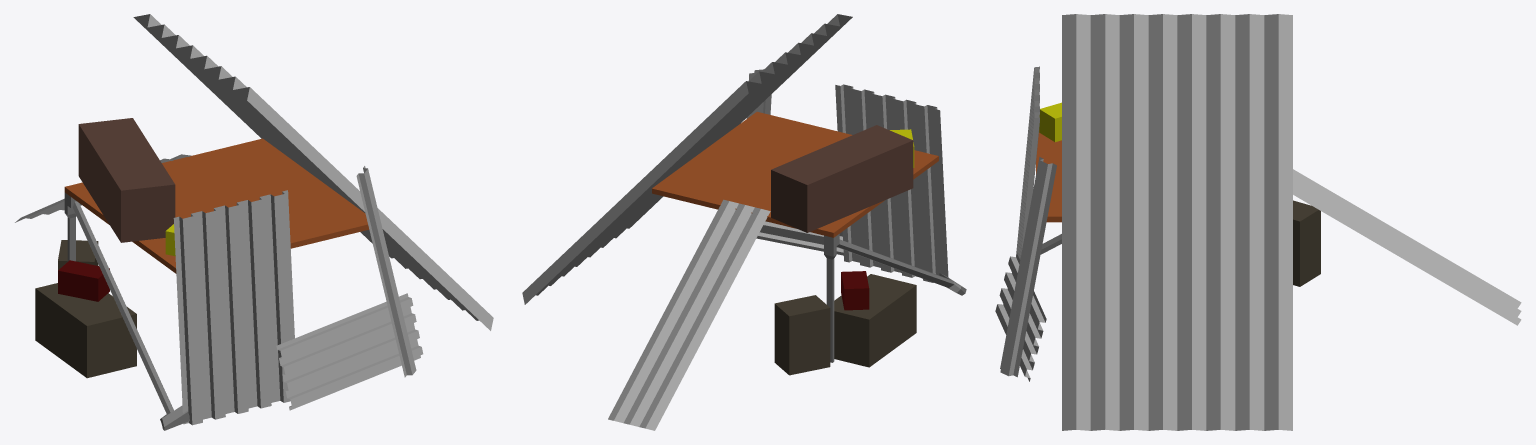
Rendered from WatchTower.fbx.
The picture shows the model from 3 angles, left to right: view 1: azimuth 30°, elevation 25°; view 2: azimuth 150°, elevation 25°; view 3: azimuth 270°, elevation 25°; orthographic projection. The views are drawn at different scales.
Parts seen in each view (by area): view 1: Watchtower; view 2: Watchtower; view 3: Watchtower.
Part boxes in pixels (bbox=[...]): Watchtower: bbox=[15, 14, 493, 430]; Watchtower: bbox=[522, 14, 966, 430]; Watchtower: bbox=[995, 14, 1521, 430].
Size of the model in its own units: 1477 by 1141 by 1799.
